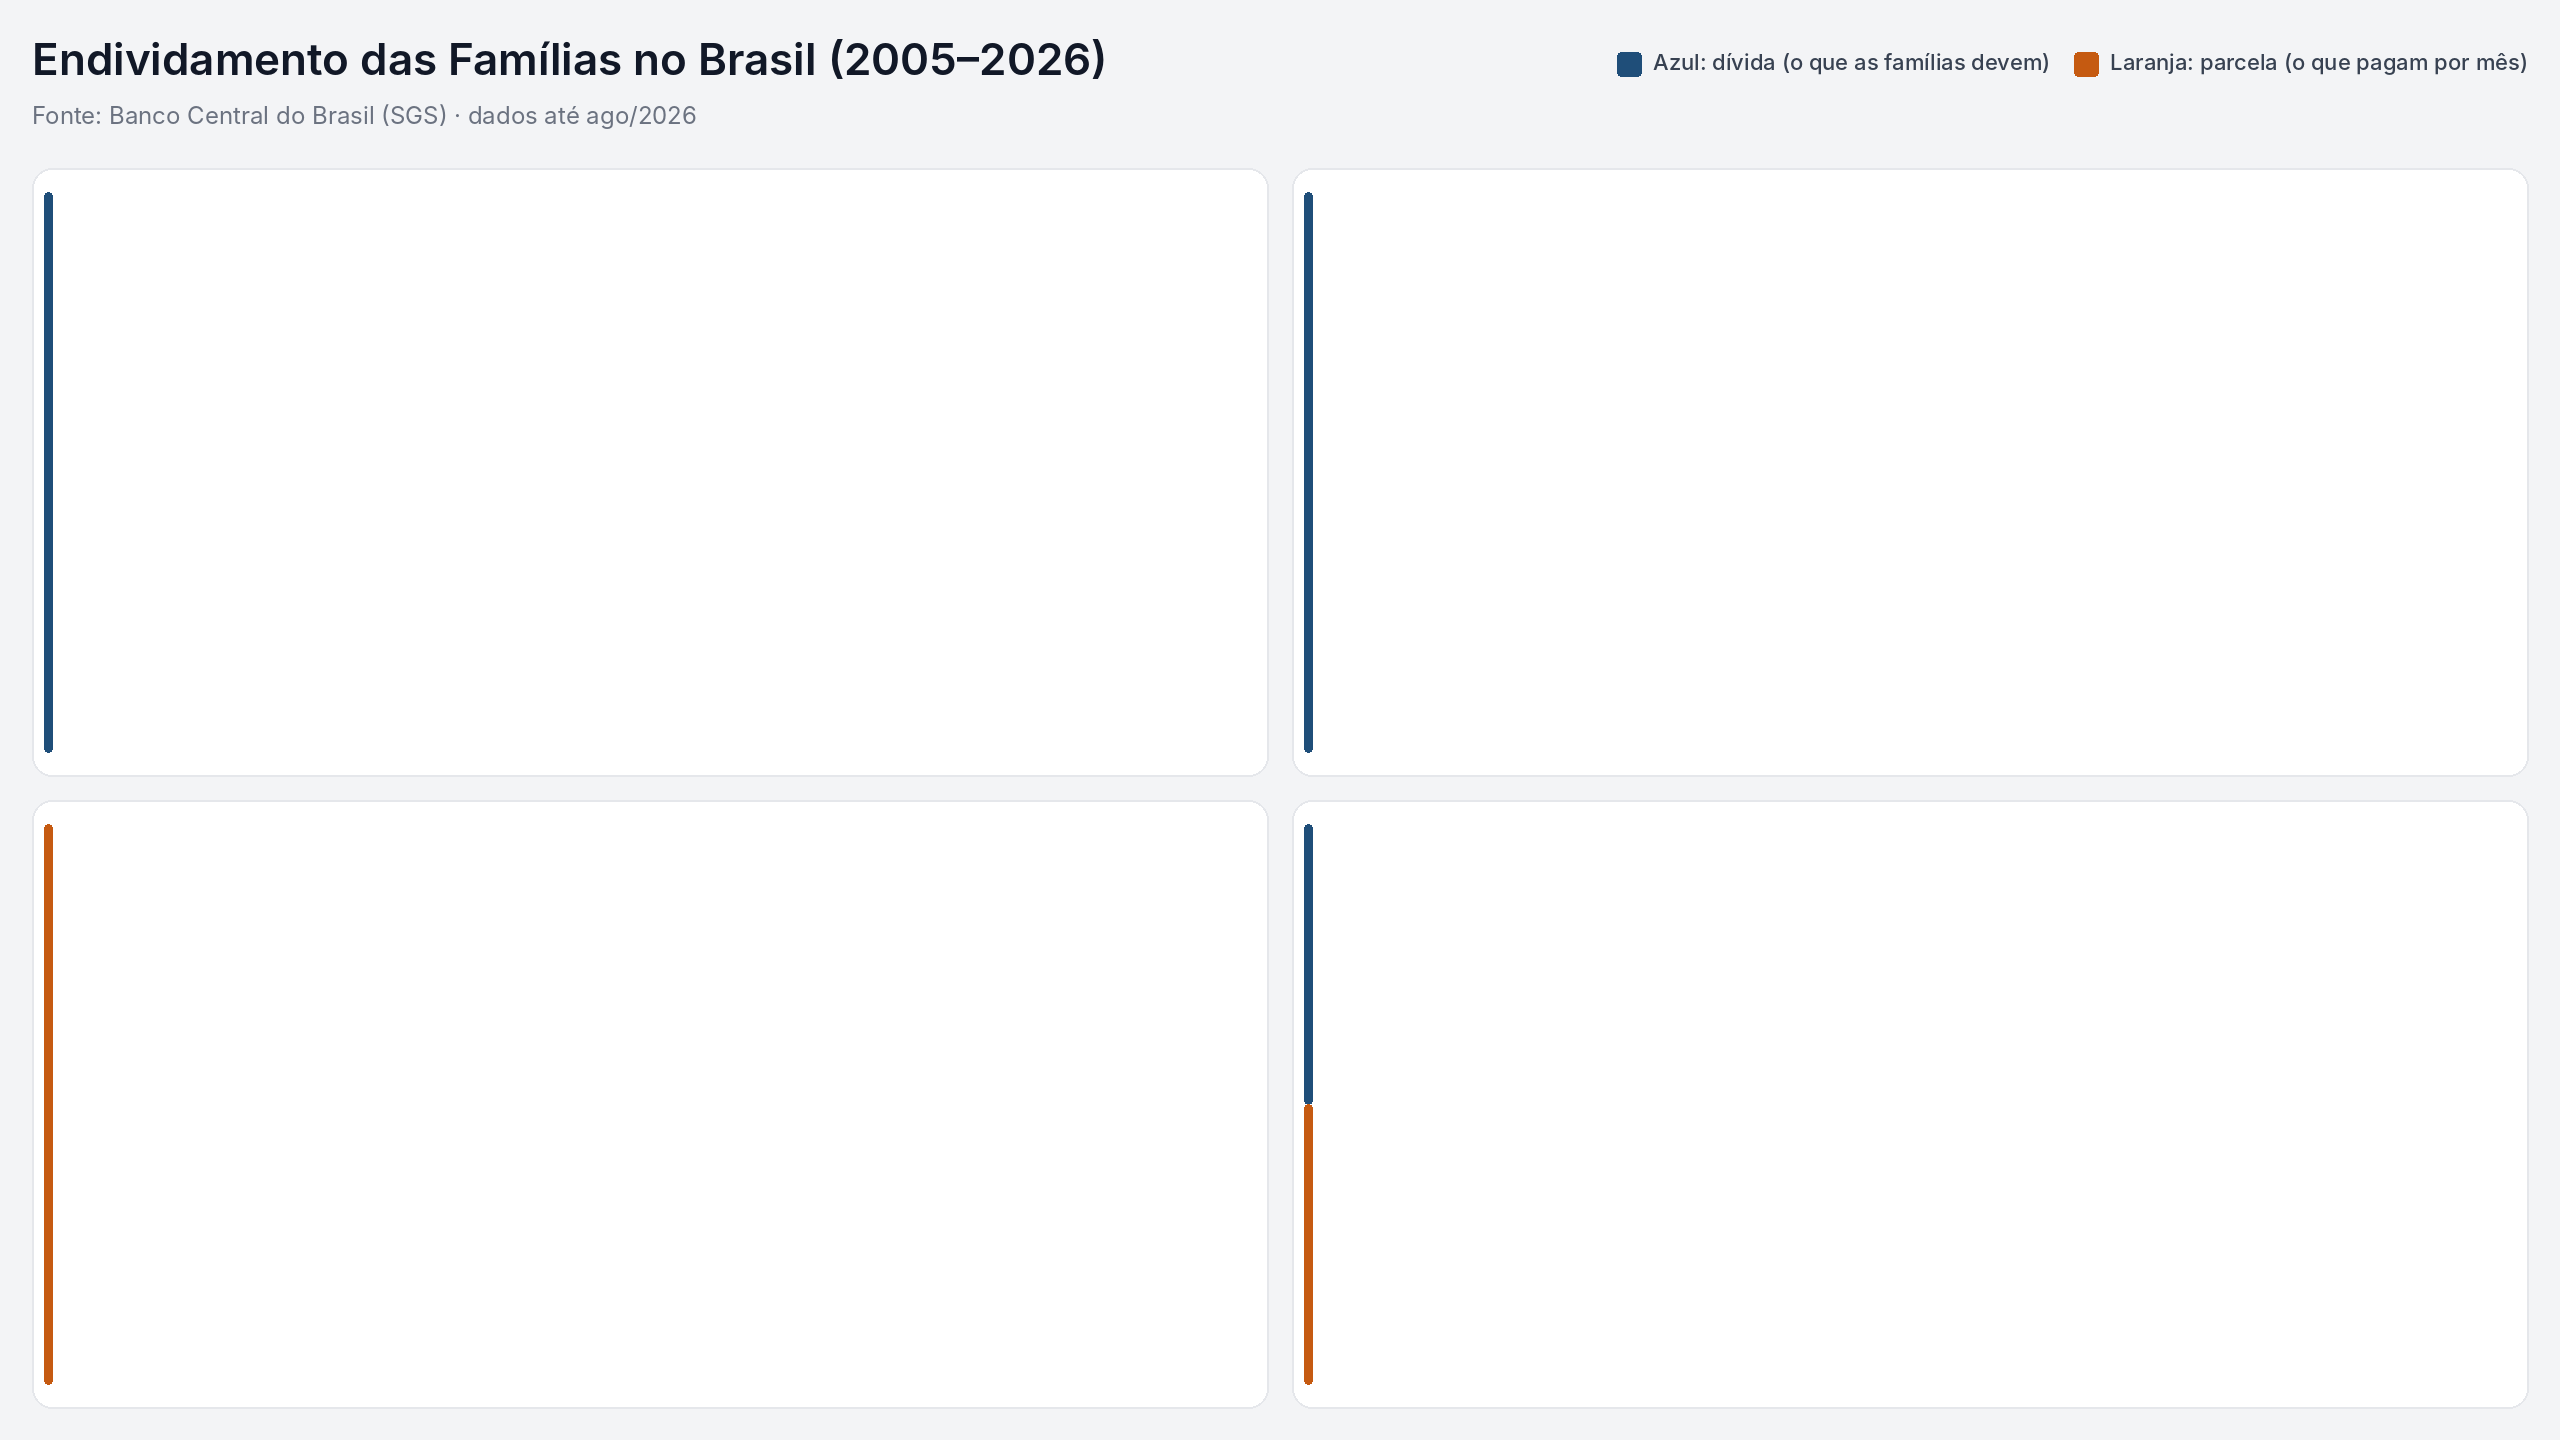

The page's visual inventory and layout, read from the dashboard file:
{"tool":"powerbi","page":{"name":"Página 1","canvas":[1280,720],"ordinal":0},"visuals":[{"type":"lineChart","title":"Quanto as famílias devem em relação à renda de 12 meses","fields":{"Category":["dim_calendario.data_ref"],"Y":["#Medidas.Endividamento"]},"box":[24,92,602,288],"z":0},{"type":"stackedAreaChart","title":"De onde vem a dívida: financiamento da casa x o resto","fields":{"Category":["dim_calendario.ano"],"Y":["#Medidas.Dívida Casa","#Medidas.Dívida Resto (Sem financiamento de casa)"]},"box":[654,92,602,288],"z":1000},{"type":"columnChart","title":"Quanto da renda do mês vai para pagar dívidas","fields":{"Category":["dim_calendario.ano"],"Y":["#Medidas.Juros","#Medidas.Amortização (Parte da parcela que abate da dívida)"]},"box":[24,408,602,288],"z":2000},{"type":"lineChart","title":"Quando a dívida caiu, mas a parcela subiu","fields":{"Y":["#Medidas.Var. Endividamento (p.p.)","#Medidas.Var. Comprometimento (p.p.)"],"Category":["dim_calendario.data_ref"]},"box":[654,408,602,288],"z":3000}]}

Visuals, with their boxes in screenshot pixels (x1, y1, x2, y2), scaled from the page's 1280x720 canvas onto the 2560x1440 screenshot:
"Quanto as famílias devem em relação à renda de 12 meses" lineChart: rect(48, 184, 1252, 760)
"De onde vem a dívida: financiamento da casa x o resto" stackedAreaChart: rect(1308, 184, 2512, 760)
"Quanto da renda do mês vai para pagar dívidas" columnChart: rect(48, 816, 1252, 1392)
"Quando a dívida caiu, mas a parcela subiu" lineChart: rect(1308, 816, 2512, 1392)
